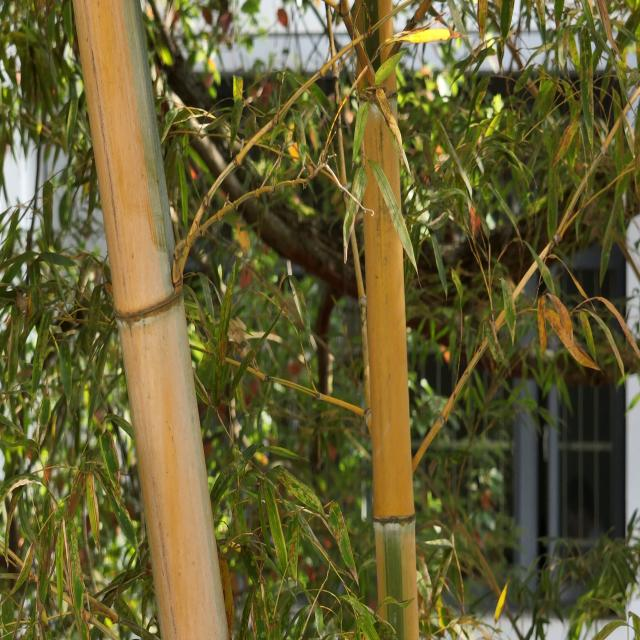Bamboo-shoots: (73, 0, 233, 640), (356, 0, 419, 640)
